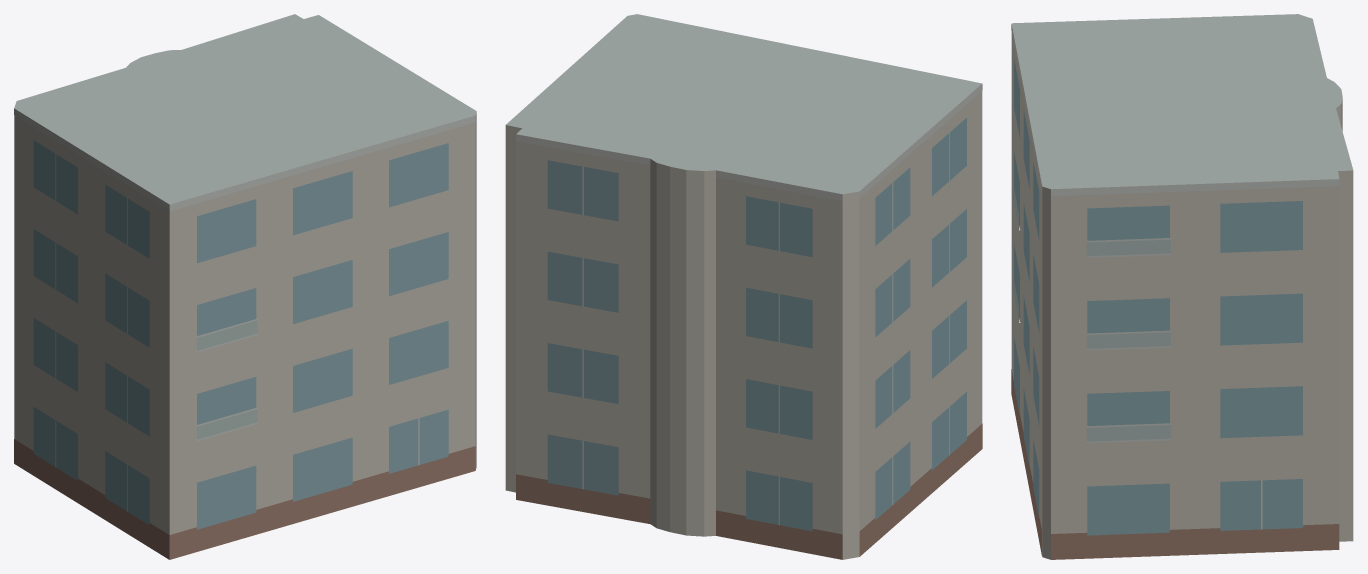
Rendered from survey-upis-32670033.glb.
3 renders of one model, left to right at view 1: azimuth 30°, elevation 25°; view 2: azimuth 150°, elevation 25°; view 3: azimuth 270°, elevation 25°, orthographic. The views are drawn at different scales.
Visible parts, largest first — view 1: survey-upis-32670033.tmp; view 2: survey-upis-32670033.tmp; view 3: survey-upis-32670033.tmp.
Part boxes in pixels (bbox=[...]): survey-upis-32670033.tmp: bbox=[14, 14, 476, 559]; survey-upis-32670033.tmp: bbox=[505, 14, 982, 559]; survey-upis-32670033.tmp: bbox=[1011, 14, 1353, 559].
Size of the model in its own units: 12.98 by 12.8 by 10.71.
